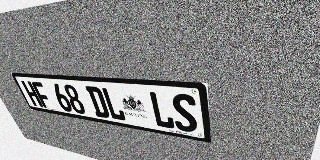6: (50, 83, 74, 112)
8: (62, 84, 87, 115)
D: (85, 86, 111, 119)
F: (31, 81, 54, 109)
H: (21, 81, 44, 107)
L: (148, 91, 175, 130), (101, 87, 127, 121)
S: (170, 93, 198, 134)
